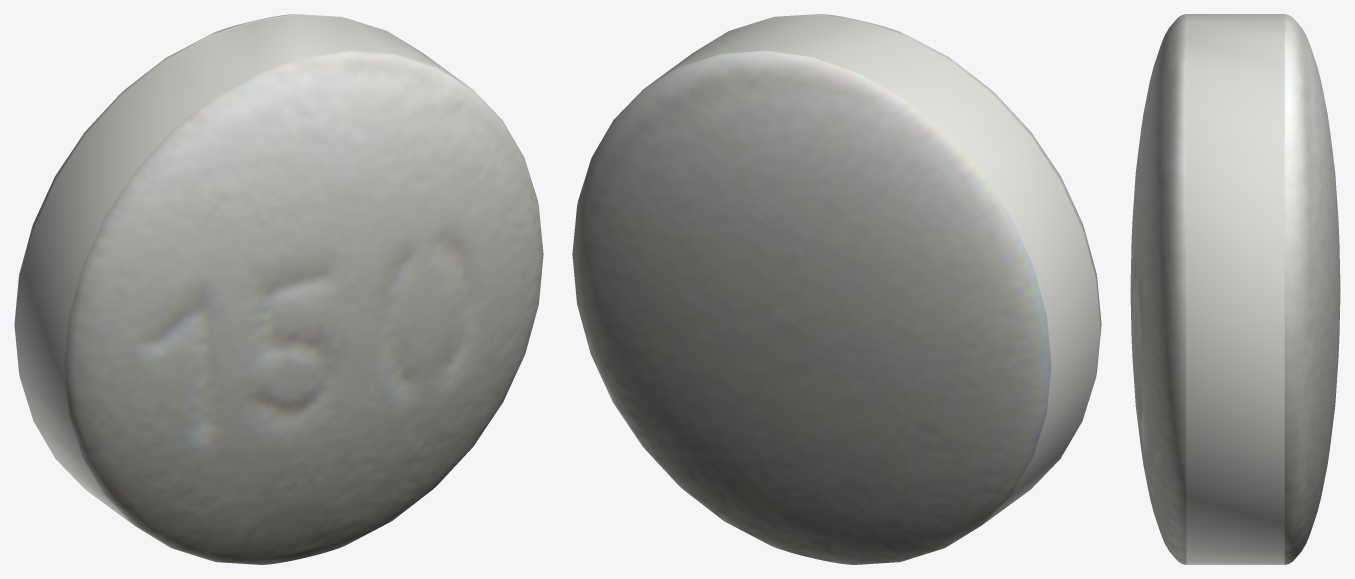
File: 20171121GOPHDRGPT27630.fbx
The picture shows the model from 3 angles, left to right: view 1: azimuth 30°, elevation 25°; view 2: azimuth 150°, elevation 25°; view 3: azimuth 270°, elevation 25°; orthographic projection.
Parts seen in each view (by area): view 1: 球體.003; view 2: 球體.003; view 3: 球體.003.
Boxes of the visible parts, left/top/right/bottom form: 球體.003: left=14, top=14, right=543, bottom=564; 球體.003: left=572, top=14, right=1101, bottom=564; 球體.003: left=1130, top=14, right=1340, bottom=564.
Bounding box in the file's own units: 14.23 × 14.23 × 5.42.
